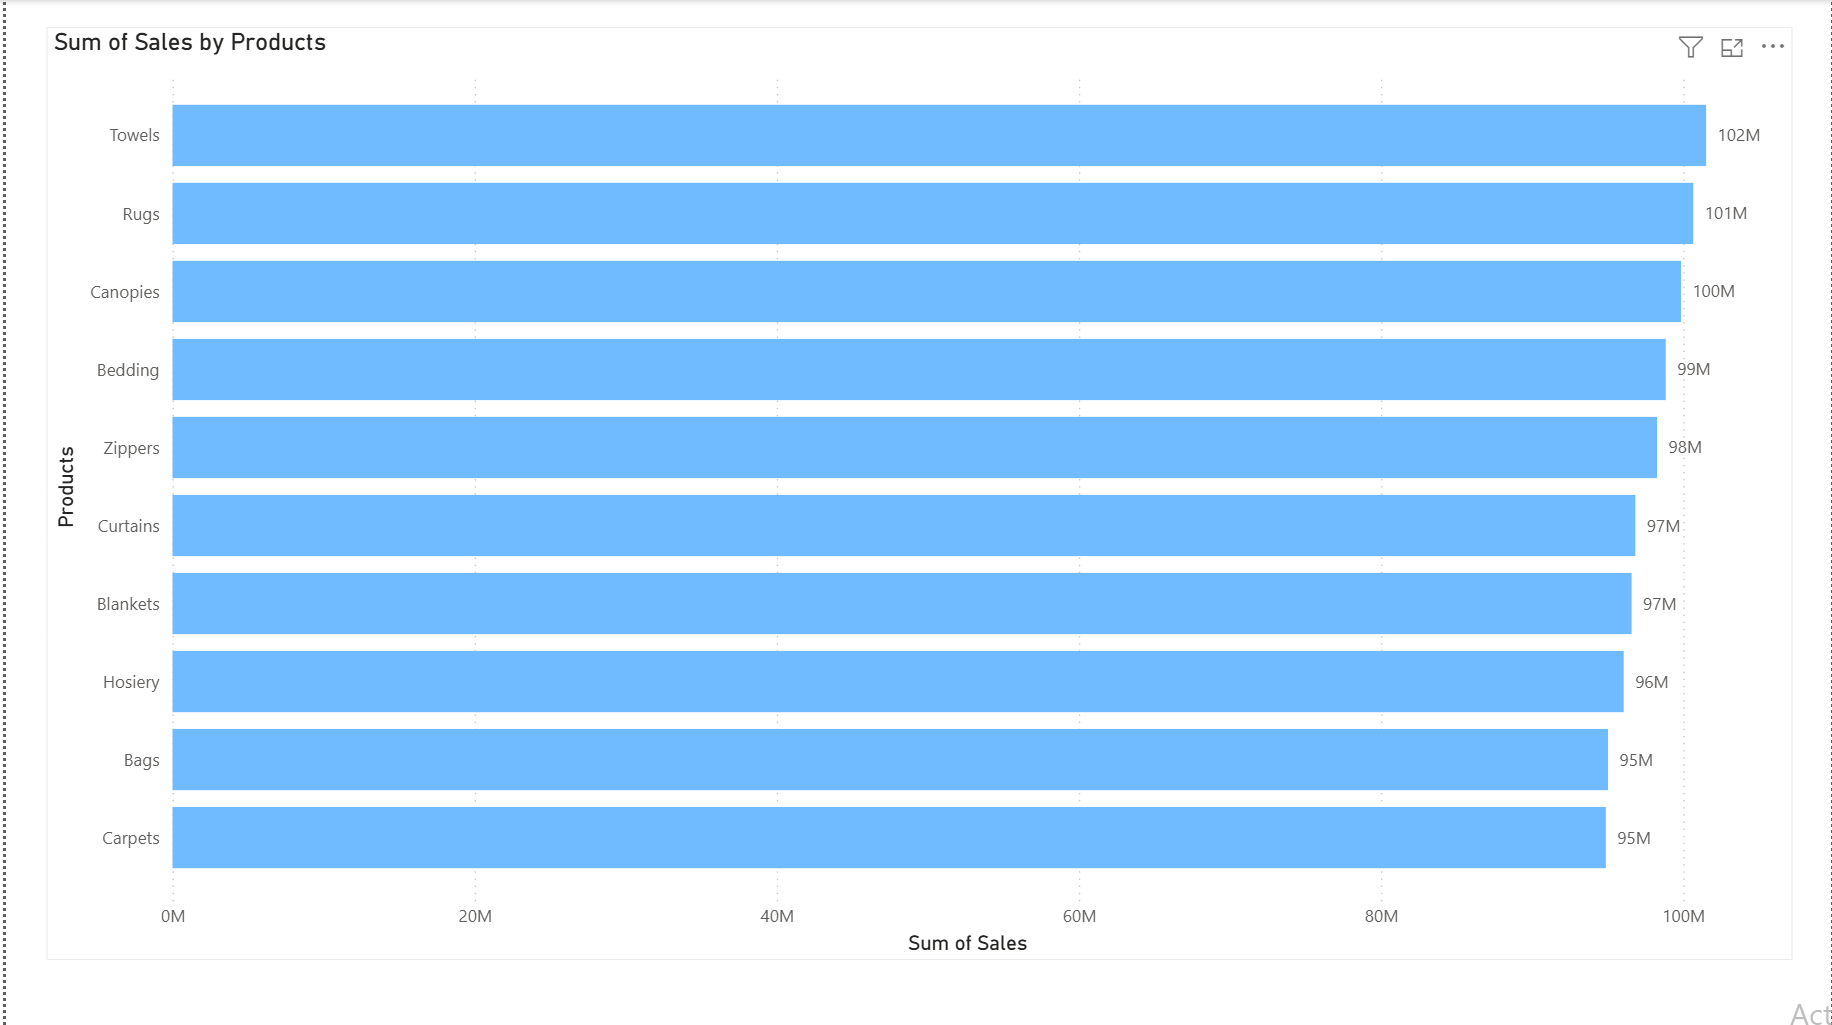

The page's visual inventory and layout, read from the dashboard file:
{"tool":"powerbi","page":{"name":"Sales by Product","canvas":[1280,720],"ordinal":3},"visuals":[{"type":"barChart","fields":{"Category":["Session-1-Other Workbooks.Products"],"Y":["Sum(Session-1-Other Workbooks.Sales)"]},"box":[28.4,18.9,1224.1,654.1],"z":0}]}

Visuals, with their boxes in screenshot pixels (x1, y1, x2, y2), scaled from the page's 1280x720 canvas onto the 1832x1025 screenshot:
barChart - Session-1-Other Workbooks.Products x Sum(Session-1-Other Workbooks.Sales): 41:27:1793:958
